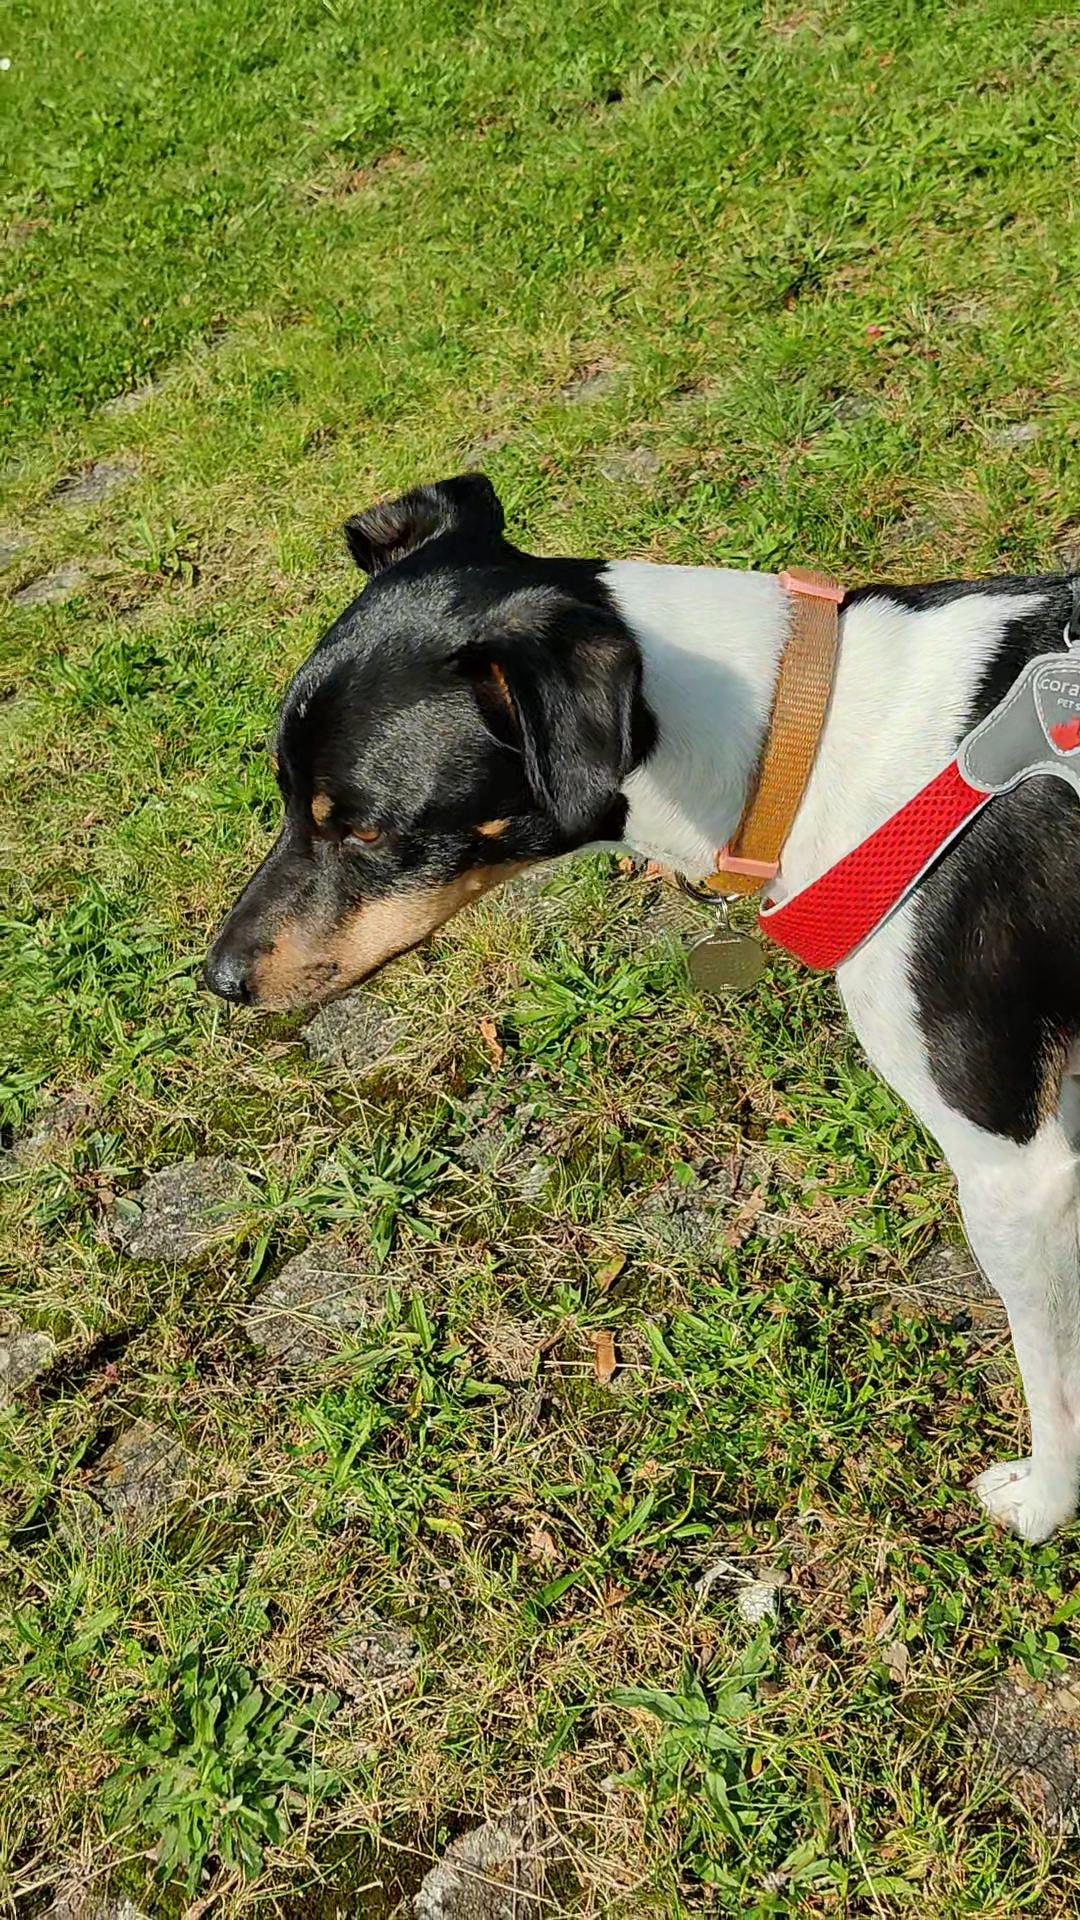Dog: (117, 389, 1079, 1578)
